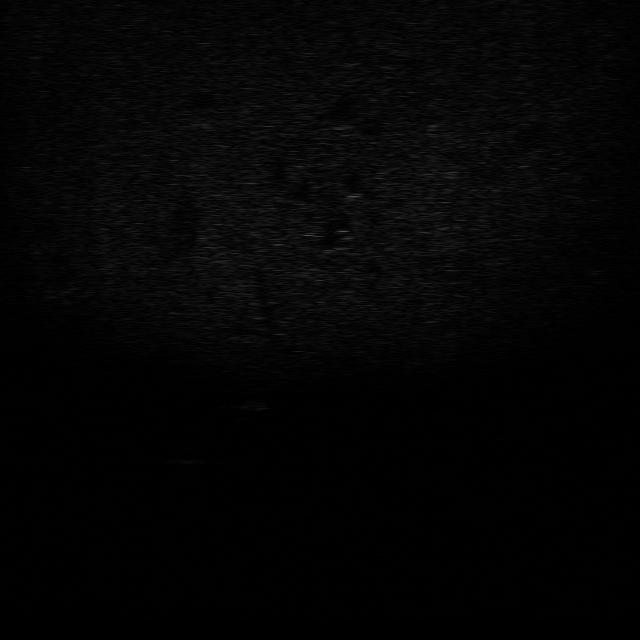ball: (168, 444, 208, 468)
human body: (232, 377, 280, 427)
